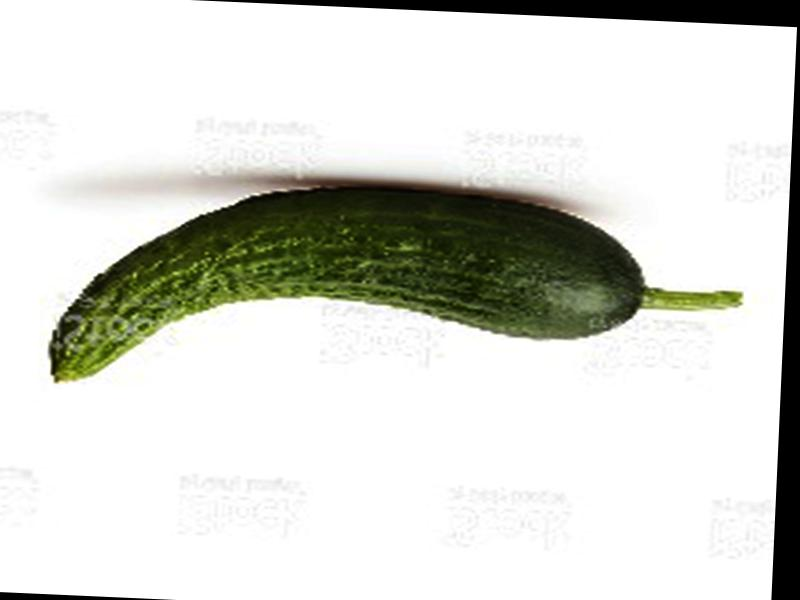Cucumber: (47, 173, 747, 410)
